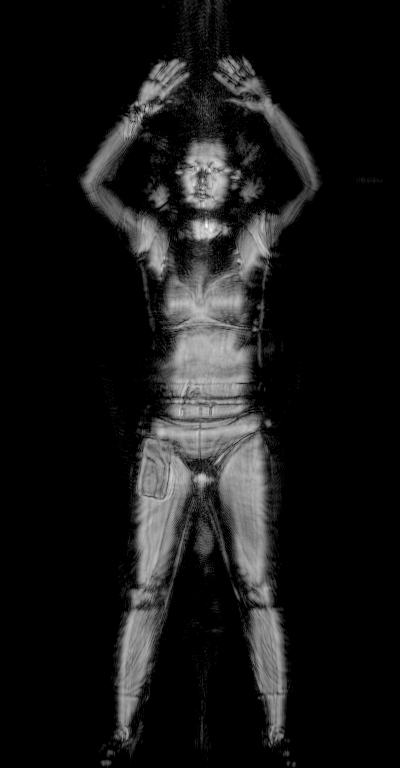head: (171, 132, 243, 221)
others: (135, 435, 175, 500), (122, 99, 148, 142)
person: (81, 51, 323, 768)
